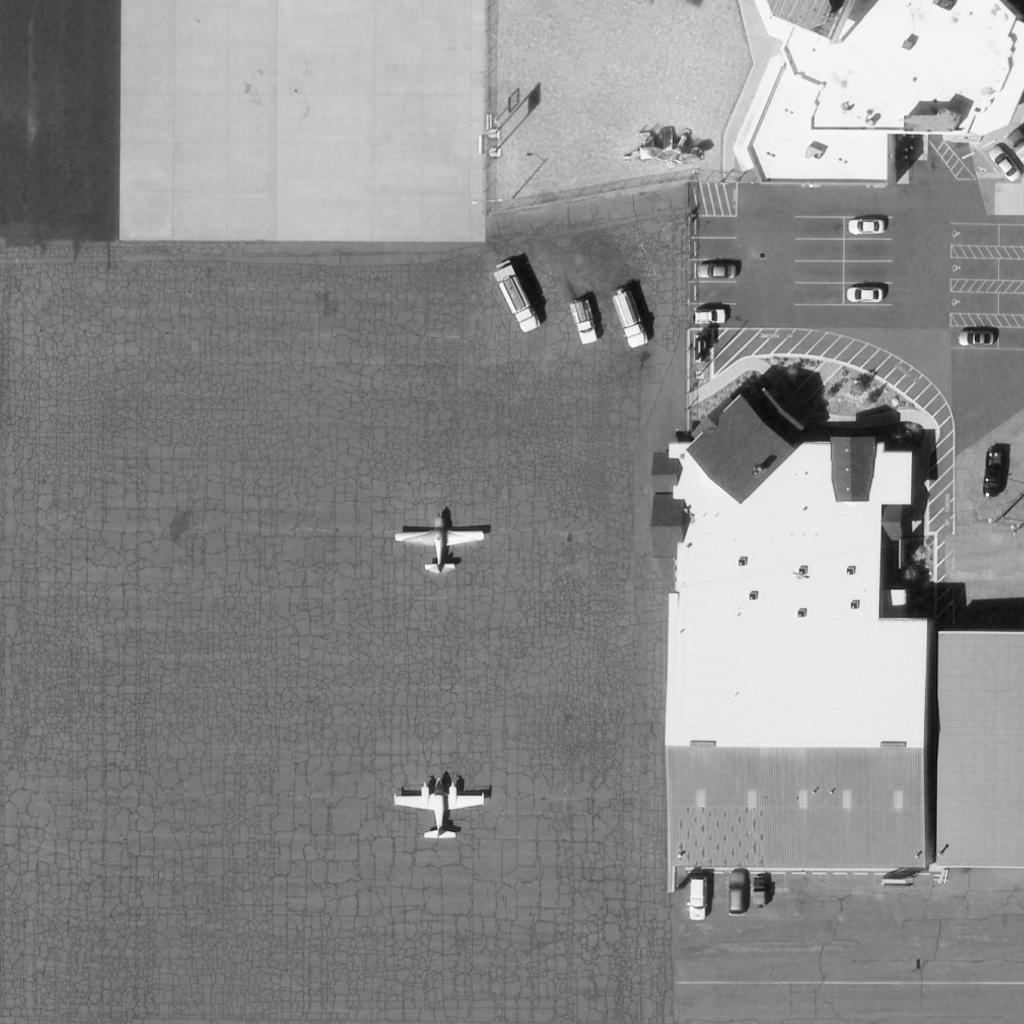vehicle: (490, 263, 544, 335), (608, 291, 648, 349), (568, 300, 602, 342), (985, 145, 1023, 181), (983, 449, 1003, 497), (725, 871, 745, 915), (689, 875, 707, 921), (839, 219, 889, 235), (956, 329, 998, 347), (697, 261, 737, 279), (691, 309, 729, 325), (845, 289, 885, 303), (751, 878, 767, 906)
